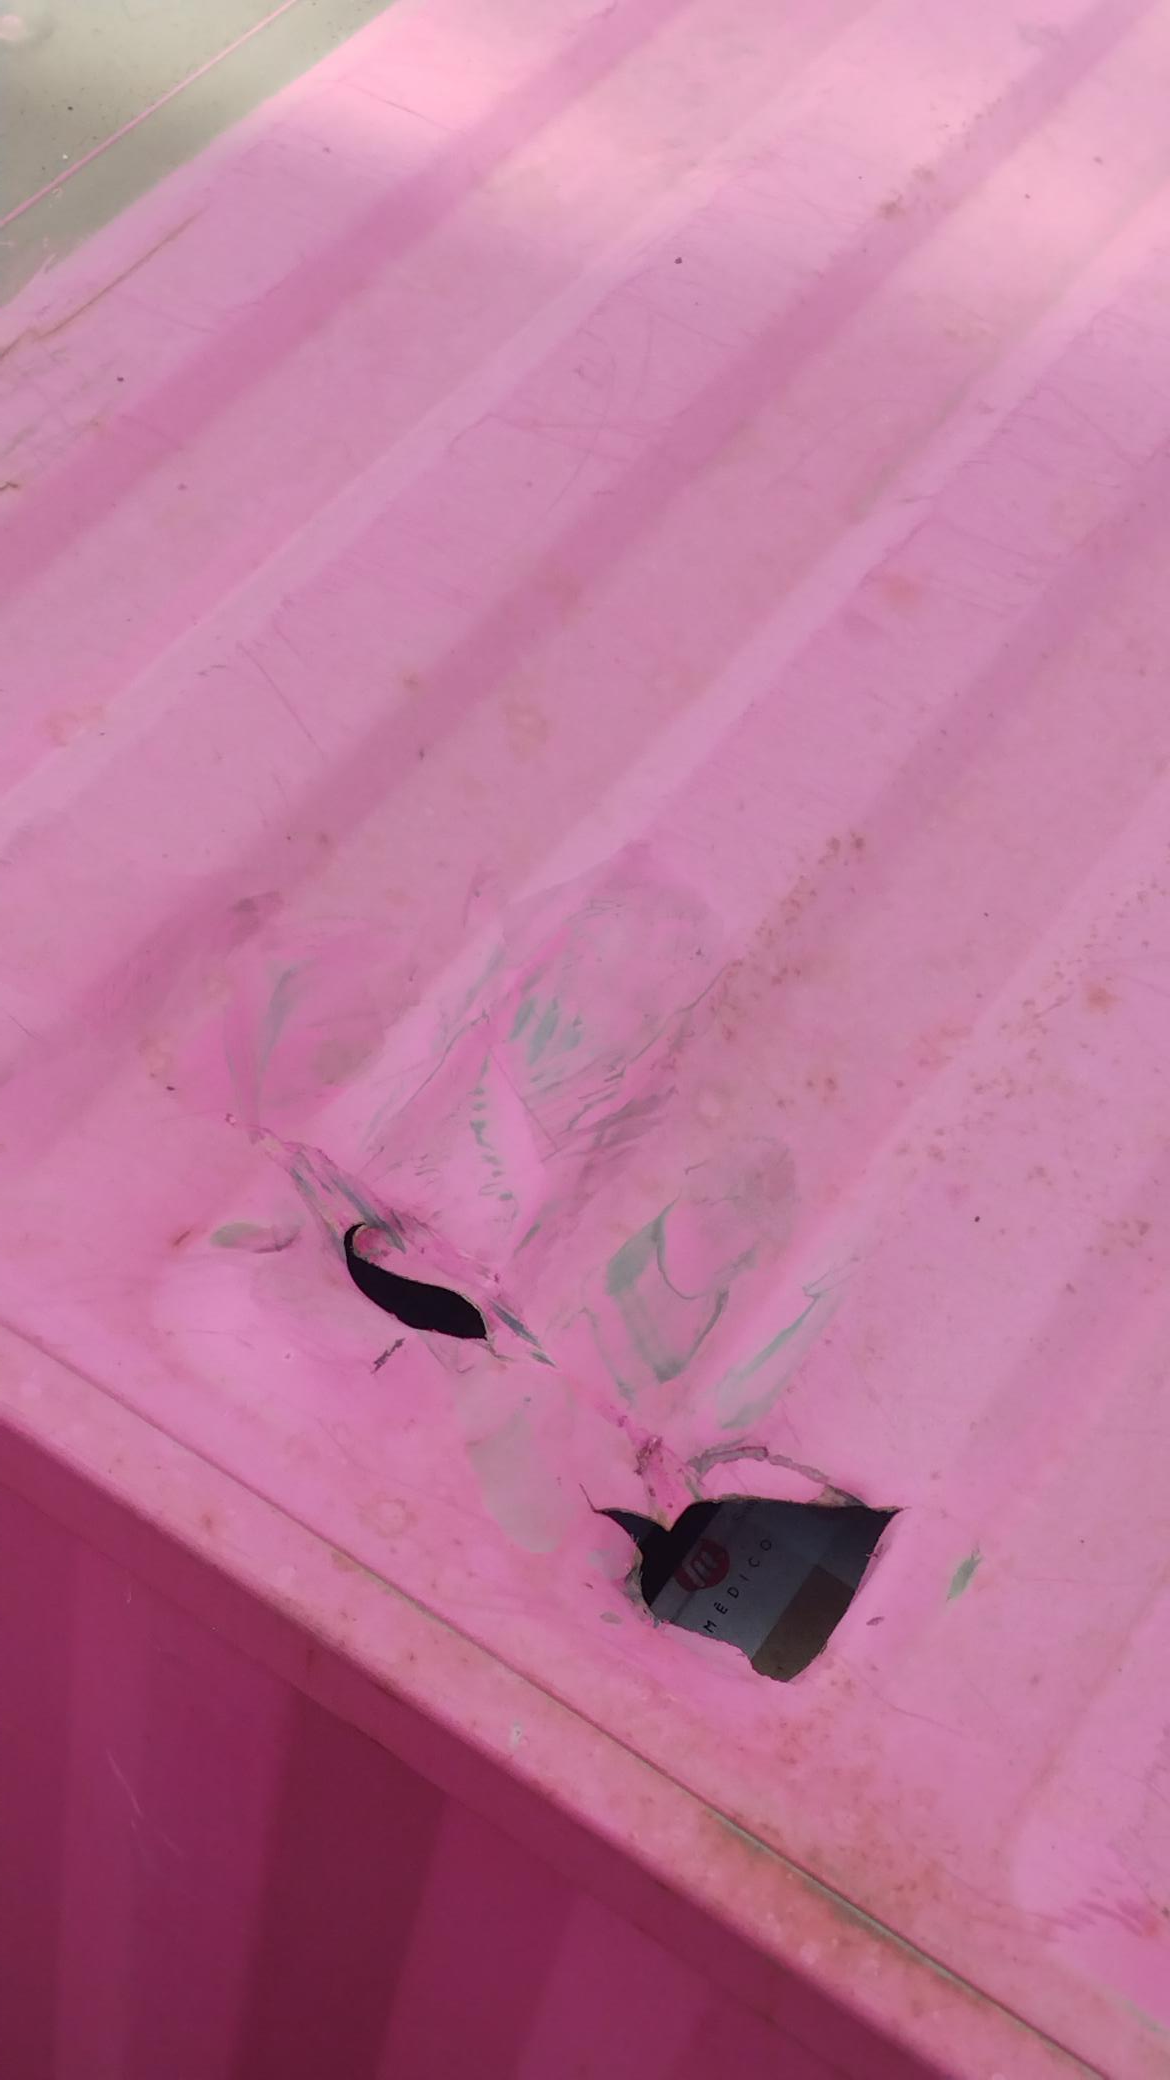hole: (569, 1424, 981, 1709), (341, 1176, 487, 1367)
